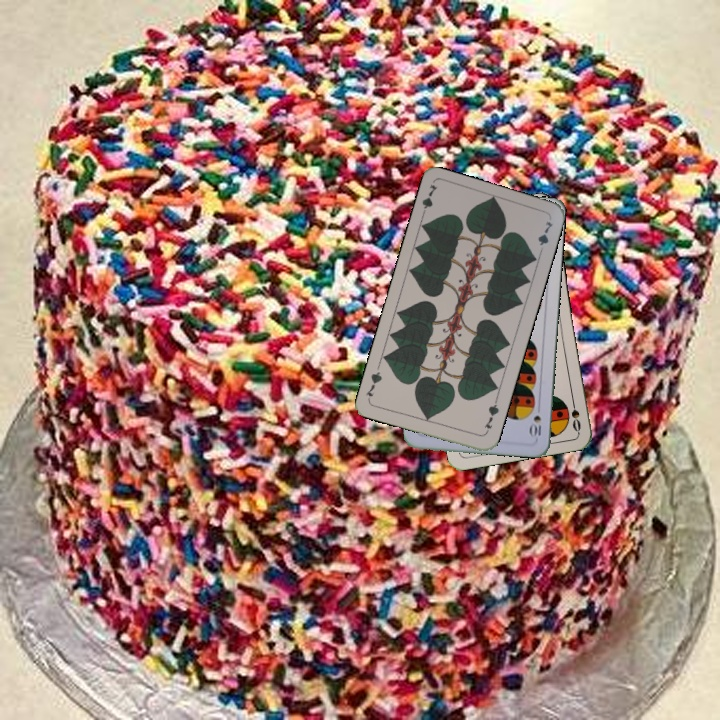G7: (417, 181, 440, 220), (480, 396, 502, 436)
S10: (527, 411, 543, 441)
SO: (567, 394, 583, 434)
